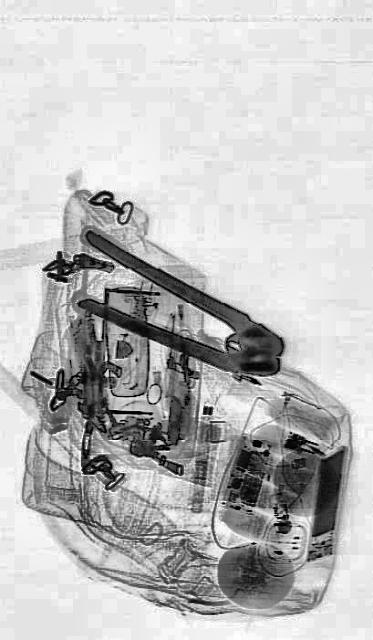Pliers: (71, 227, 289, 399)
